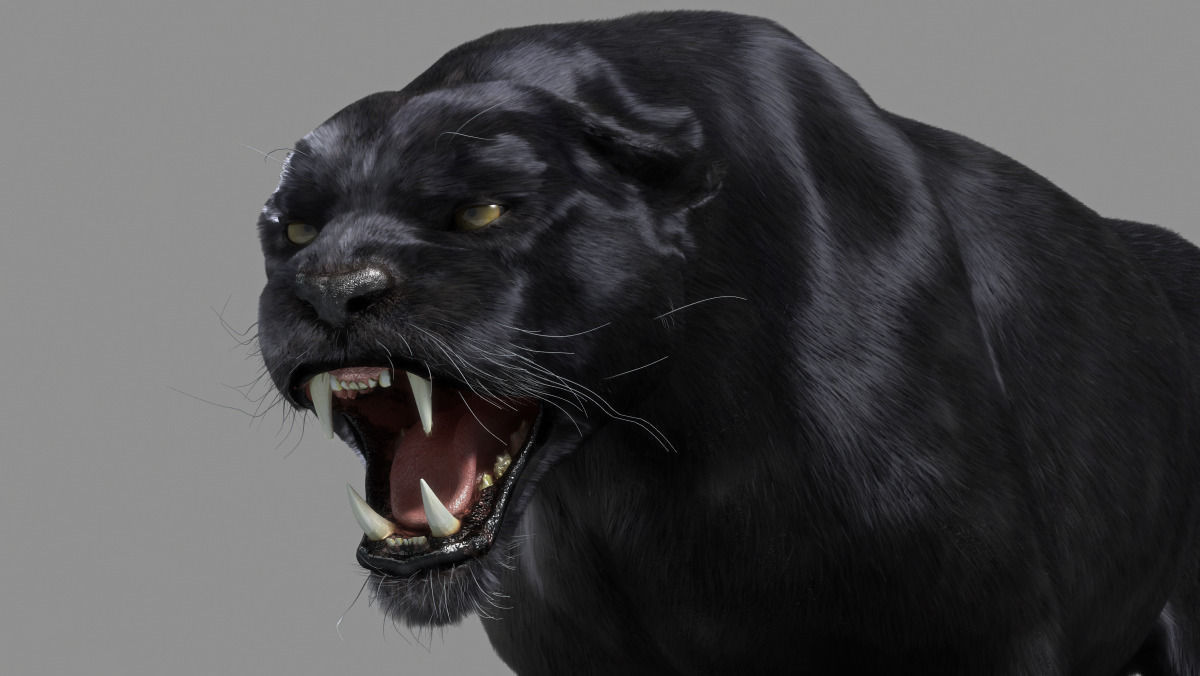panther: (236, 8, 1179, 675)
